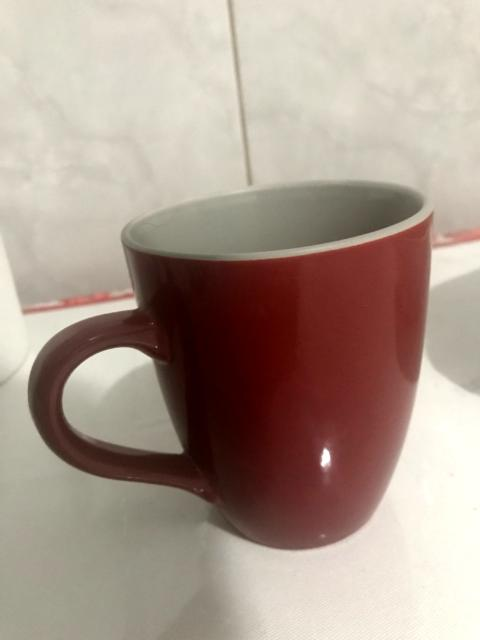Cup: (29, 182, 431, 548)
